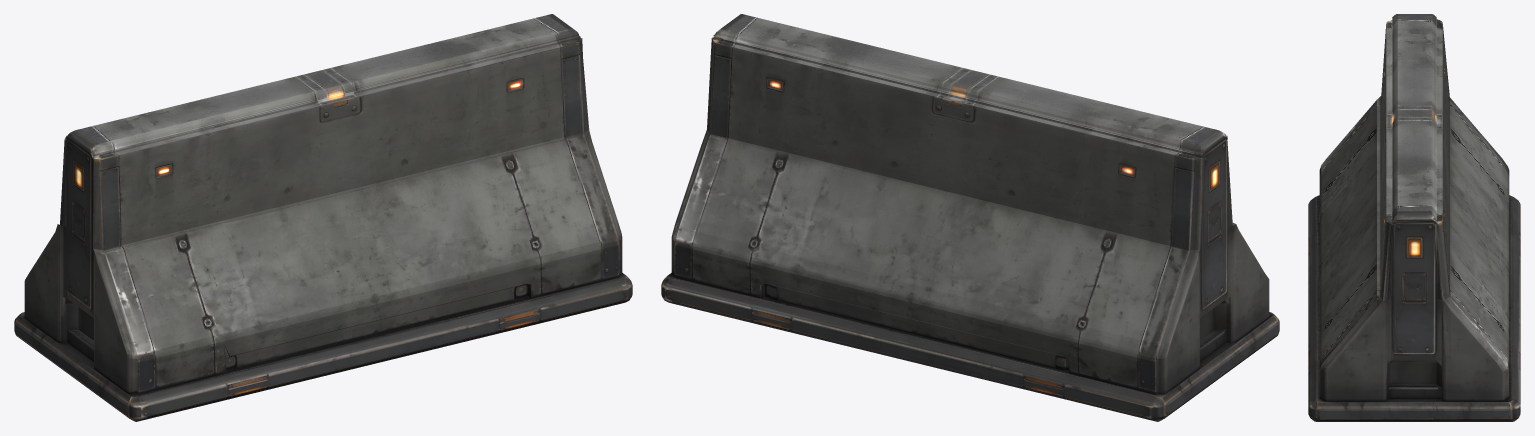
File: prop_cargo.glb
The picture shows the model from 3 angles, left to right: view 1: azimuth 30°, elevation 25°; view 2: azimuth 150°, elevation 25°; view 3: azimuth 270°, elevation 25°; orthographic projection. The views are drawn at different scales.
Visible parts, largest first — view 1: Mesh_0; view 2: Mesh_0; view 3: Mesh_0.
Part boxes in pixels (x1,y1,x2,y2): Mesh_0: (14,14,632,421); Mesh_0: (661,14,1279,421); Mesh_0: (1308,14,1520,421).
Size of the model in its own units: 1.91 by 0.8689 by 0.8102.
1 material, 1 textured.
